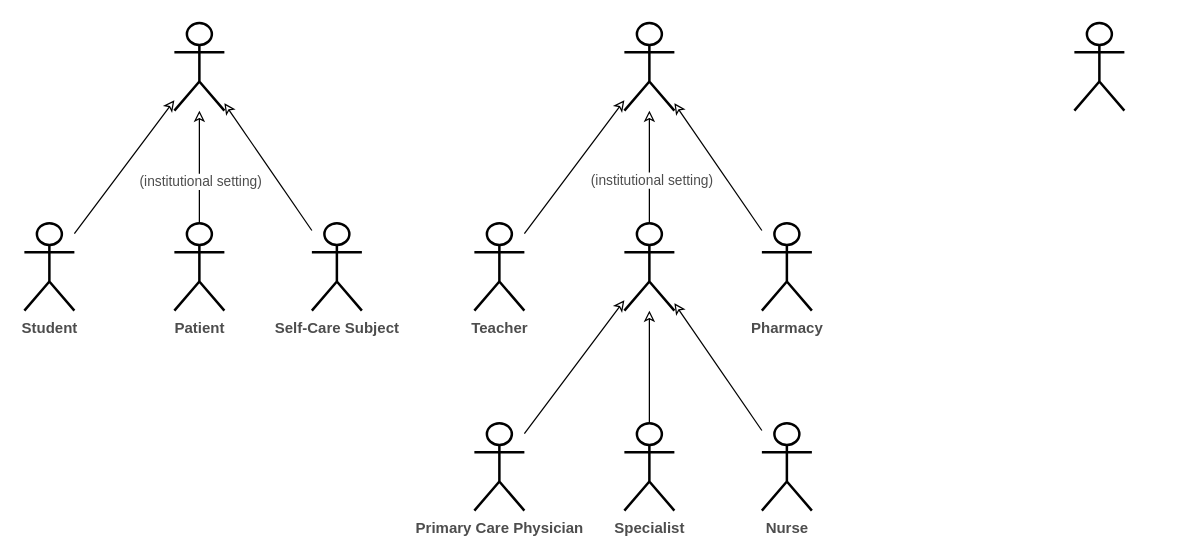
Some shapes in this 1195 by 558 pixel diagram are drawn without their labels. Here are the shapes that lost their labels. From the top down, the box of each, then its label:
(172, 21, 225, 111): ABPM Wearer
(622, 21, 675, 111): ABPM Provider
(1072, 21, 1125, 111): Chrono-Physiologist
(622, 221, 675, 311): Clinician
